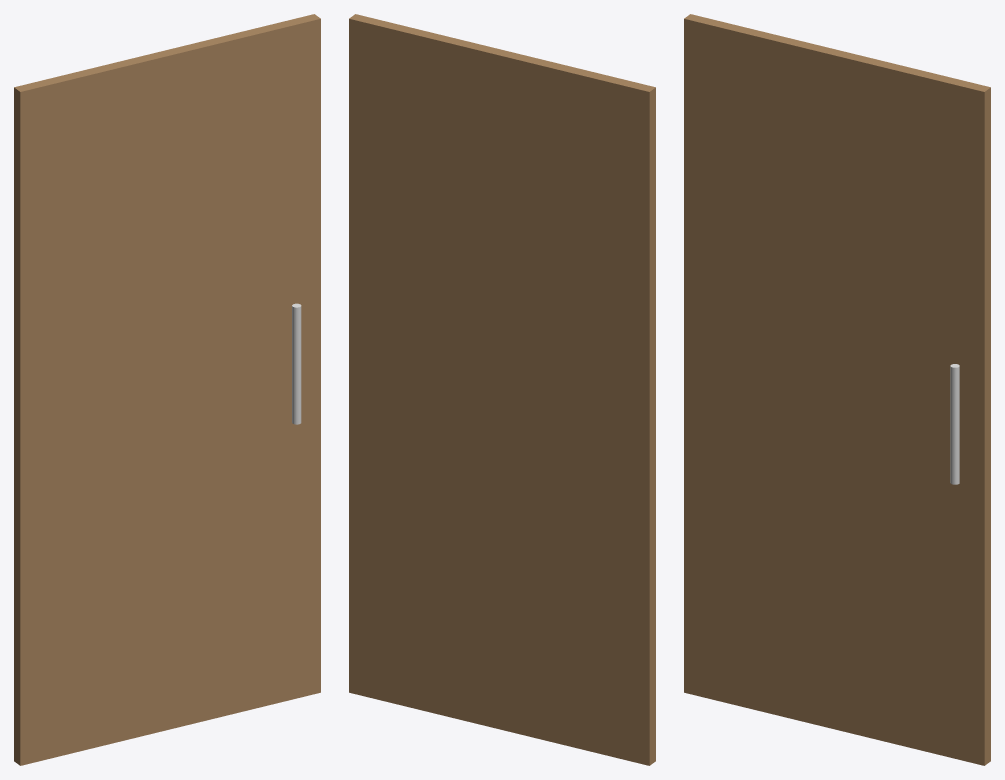
File: ichago door.fbx
3 renders of one model, left to right at view 1: azimuth 30°, elevation 25°; view 2: azimuth 150°, elevation 25°; view 3: azimuth 330°, elevation 25°, orthographic.
Parts seen in each view (by area): view 1: Cabinet_Door, Vertical_Door_Handle_Right; view 2: Cabinet_Door; view 3: Cabinet_Door, Vertical_Door_Handle_Right.
Part boxes in pixels (x1,y1,x2,y2): Cabinet_Door: (14, 14, 320, 765); Vertical_Door_Handle_Right: (292, 303, 301, 424); Cabinet_Door: (349, 14, 655, 765); Cabinet_Door: (684, 14, 990, 765); Vertical_Door_Handle_Right: (950, 364, 959, 484).
Bounding box in the file's own units: 134 × 288 × 8.8.
